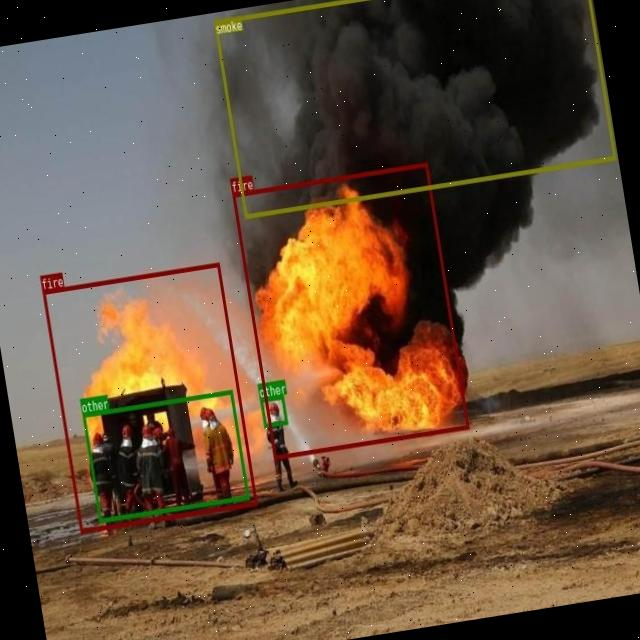fire: (231, 162, 469, 459), (42, 262, 257, 532)
smoke: (213, 0, 615, 217)
